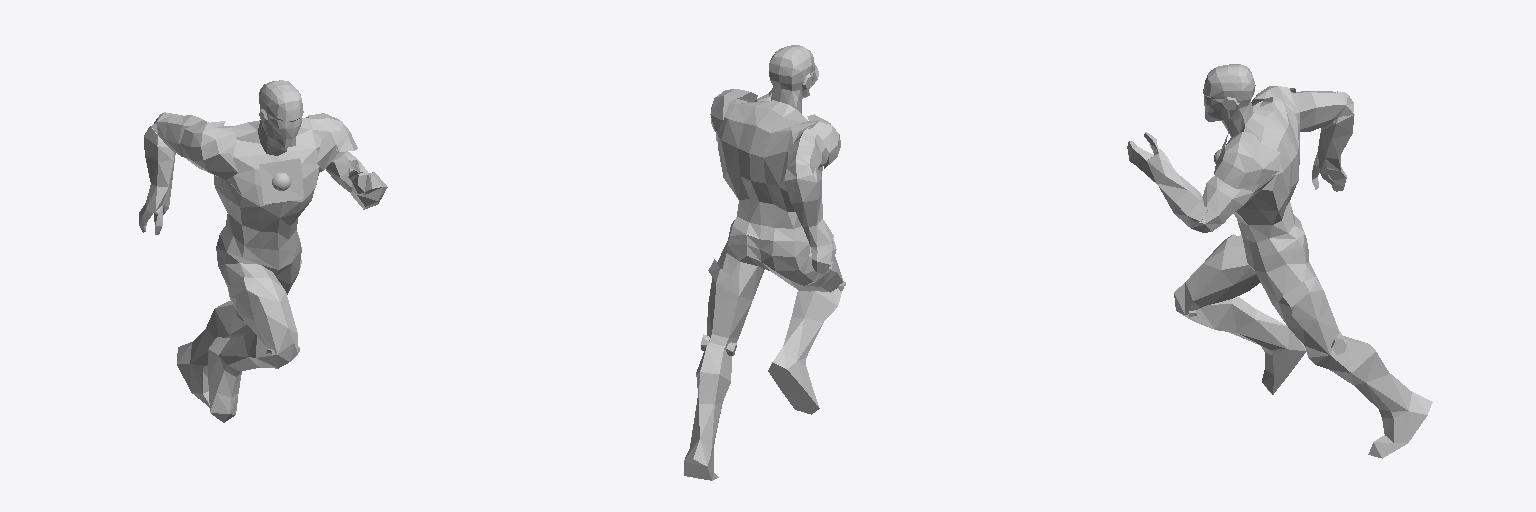
File: running11.obj
The picture shows the model from 3 angles: view 1: azimuth 30°, elevation 25°; view 2: azimuth 150°, elevation 25°; view 3: azimuth 270°, elevation 25°; orthographic projection.
Visible parts, largest first — view 1: M-FF_iOS_HERO_Tony_Stark_Iron_Man_Classic; view 2: M-FF_iOS_HERO_Tony_Stark_Iron_Man_Classic; view 3: M-FF_iOS_HERO_Tony_Stark_Iron_Man_Classic.
Boxes of the visible parts, box(x1,y1,x2,y2) form: M-FF_iOS_HERO_Tony_Stark_Iron_Man_Classic: box(139, 80, 387, 422); M-FF_iOS_HERO_Tony_Stark_Iron_Man_Classic: box(684, 45, 845, 480); M-FF_iOS_HERO_Tony_Stark_Iron_Man_Classic: box(1127, 64, 1432, 458).
Bounding box in the file's own units: 0.9413 × 1.9 × 1.38.